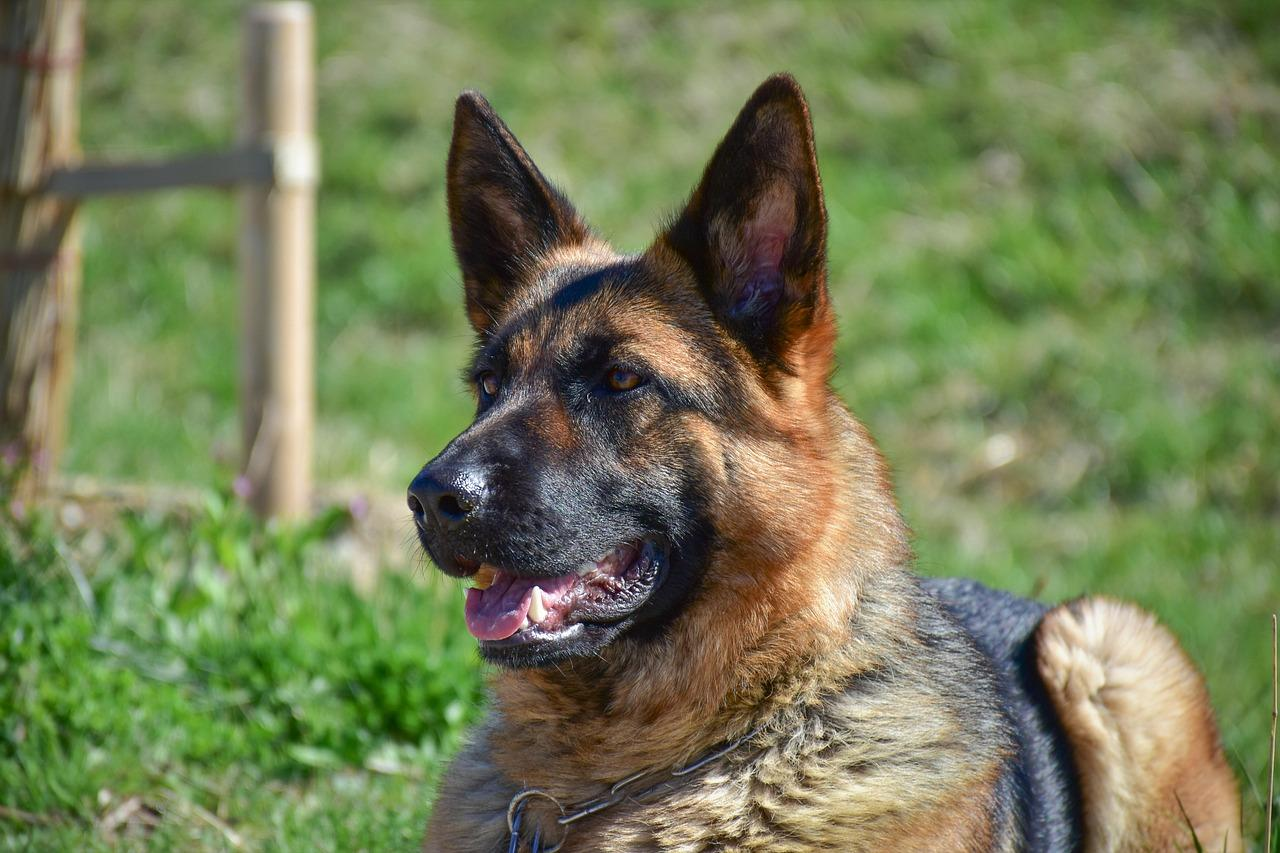german_shepherd: (431, 117, 813, 661)
